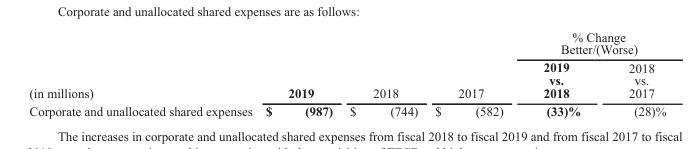table: (28, 29, 665, 118)
table column: (28, 29, 258, 118), (425, 29, 522, 118), (340, 29, 425, 118), (258, 29, 340, 118), (522, 29, 604, 118), (604, 29, 665, 118)
table column header: (28, 29, 665, 101)
table row: (28, 58, 665, 101), (28, 29, 665, 58), (28, 101, 665, 118)
table spanning cell: (28, 29, 258, 101), (425, 29, 522, 101), (340, 29, 425, 101), (258, 29, 340, 101), (522, 29, 665, 58)
